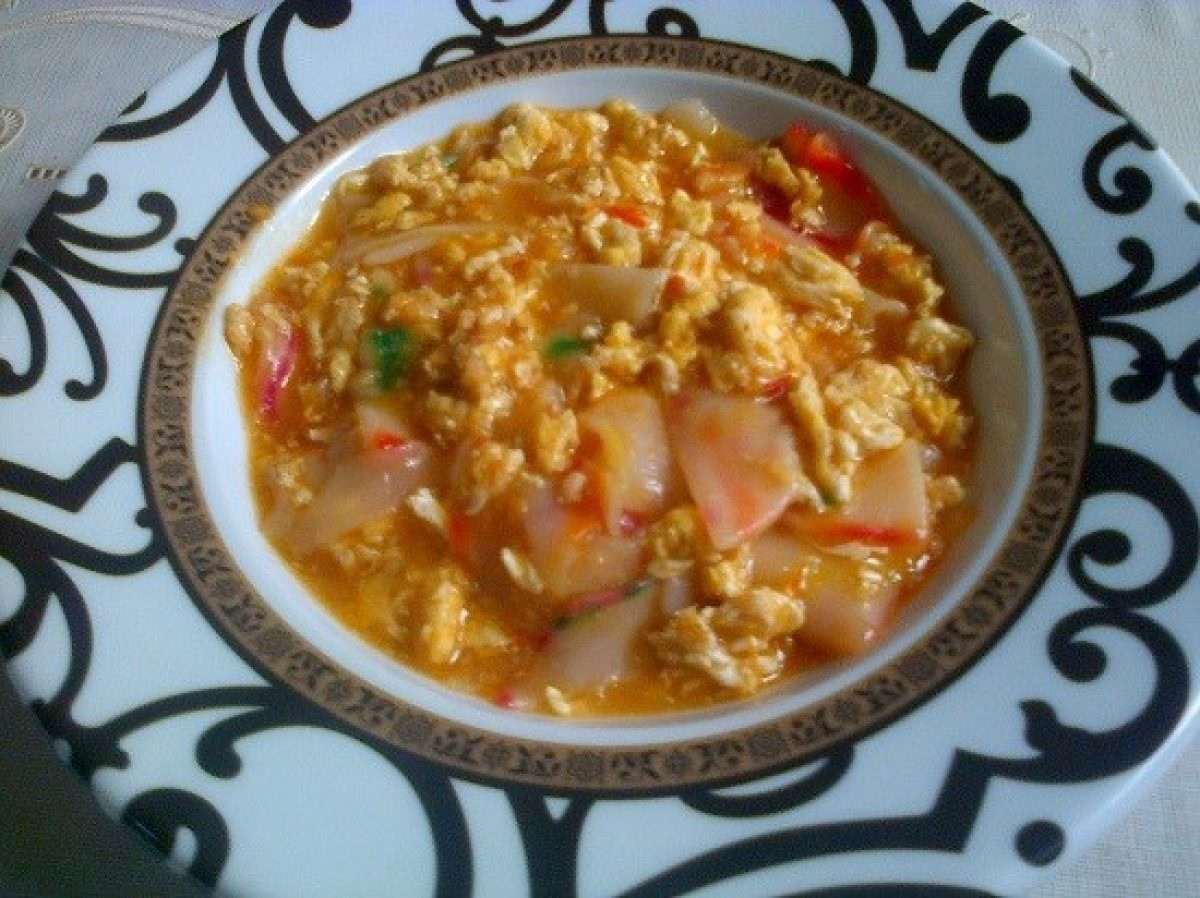seblak: (227, 106, 983, 720)
